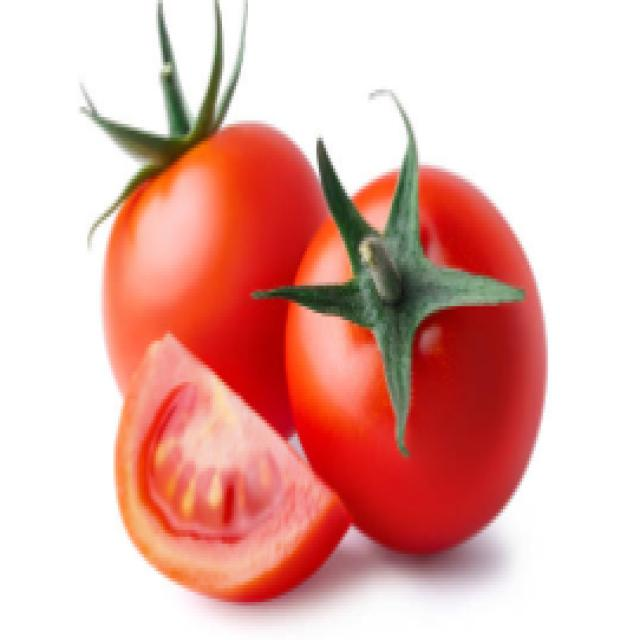Tomato: (263, 142, 560, 560)
